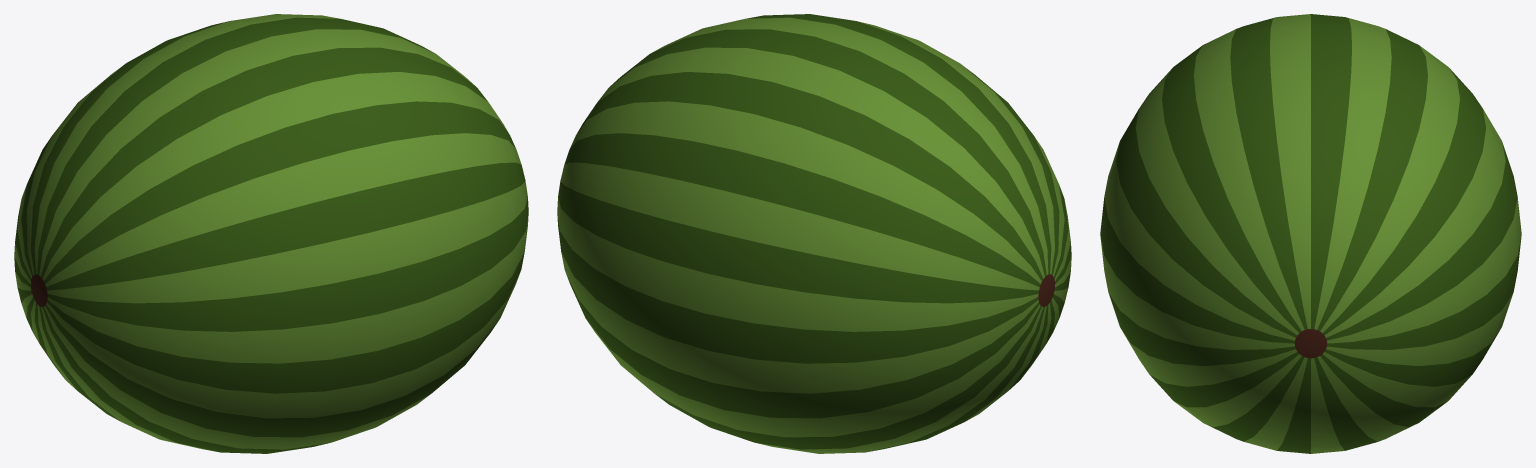
Rendered from watermelon.glb.
The picture shows the model from 3 angles, left to right: view 1: azimuth 30°, elevation 25°; view 2: azimuth 150°, elevation 25°; view 3: azimuth 270°, elevation 25°; orthographic projection. The views are drawn at different scales.
Parts seen in each view (by area): view 1: Watermelon; view 2: Watermelon; view 3: Watermelon.
Part boxes in pixels (bbox=[...]): Watermelon: bbox=[14, 14, 528, 453]; Watermelon: bbox=[557, 14, 1071, 453]; Watermelon: bbox=[1100, 14, 1521, 453].
Size of the model in its own units: 0.271 by 0.2192 by 0.2192.
1 material, 1 textured.
